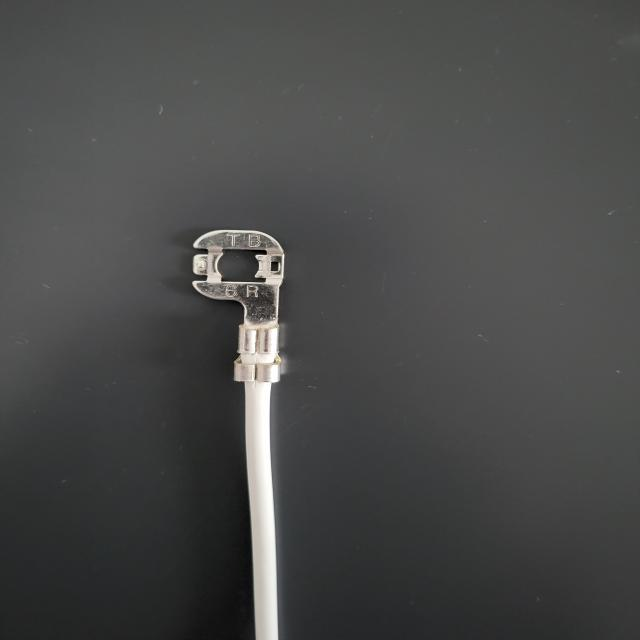defect: (177, 306, 380, 404)
